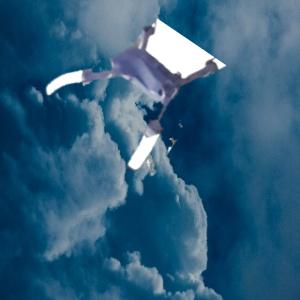drone: (53, 14, 201, 162)
